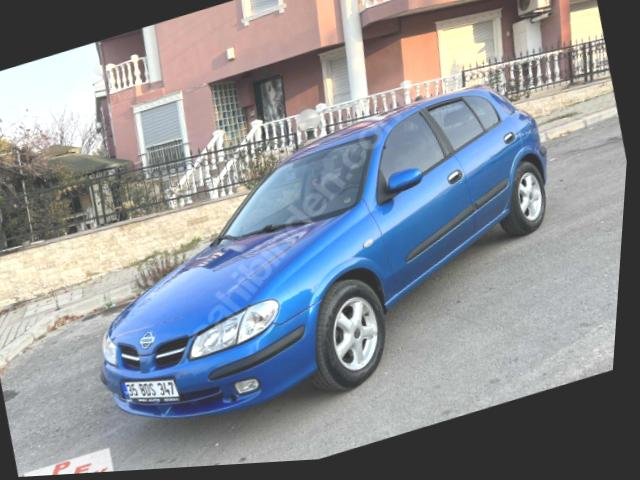plaka: (124, 379, 180, 403)
